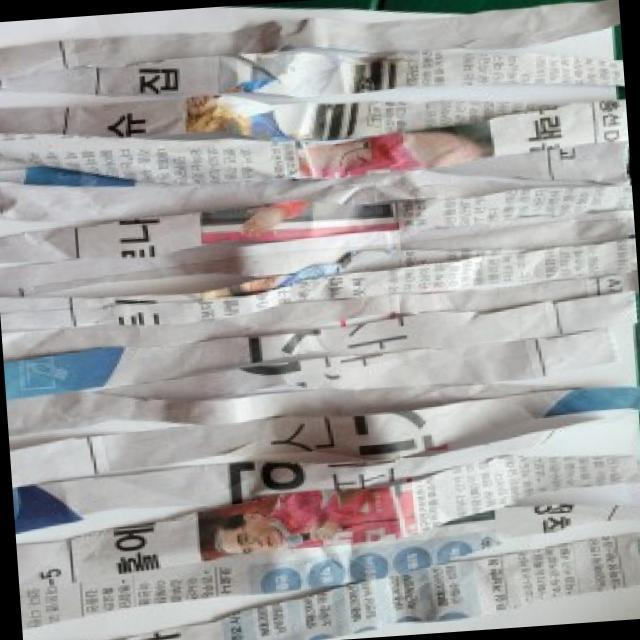reuseable_paper: (0, 1, 640, 640)
